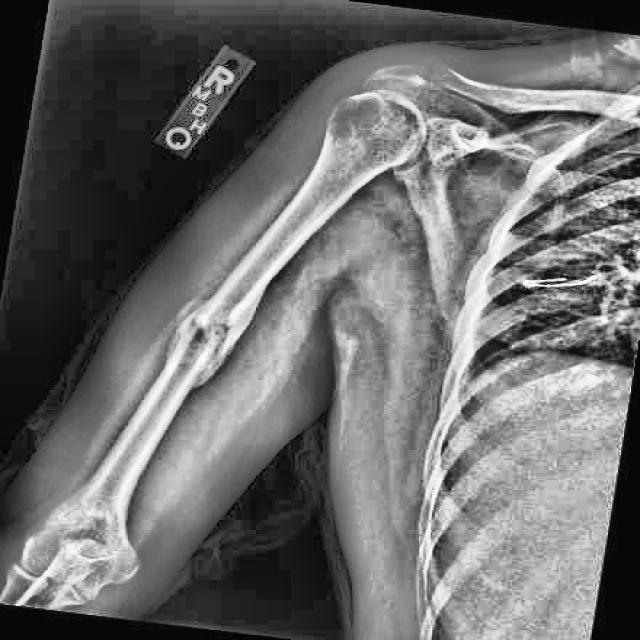humerus: (104, 277, 294, 445)
